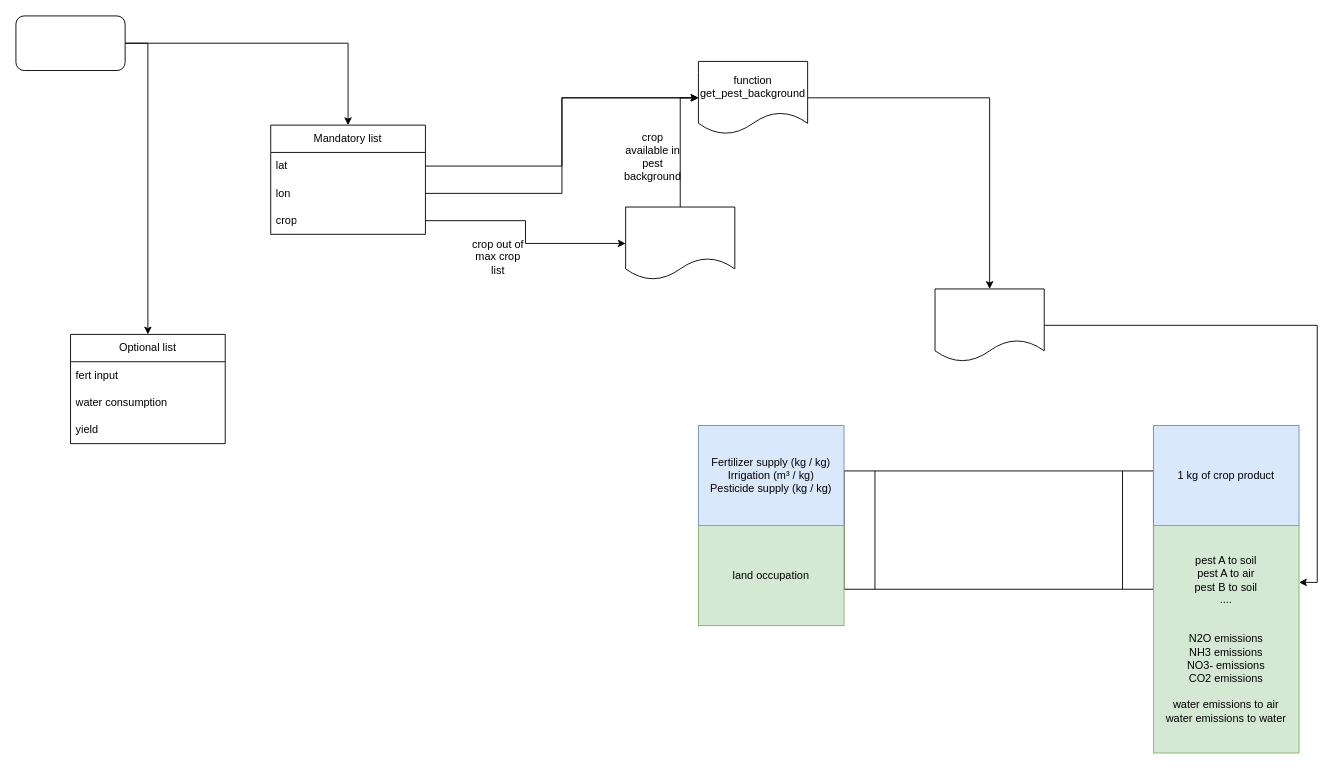
The diagram is 1340 pixels wide and 769 high, and some of its shapes have lost their labels. The centre of each missing label's shape, as x and y in pixels:
Base process: the point at 998,529
function compartmentalize_pest_output: the point at 989,325
function map_crop_pest: the point at 680,243
UI: the point at 70,43
